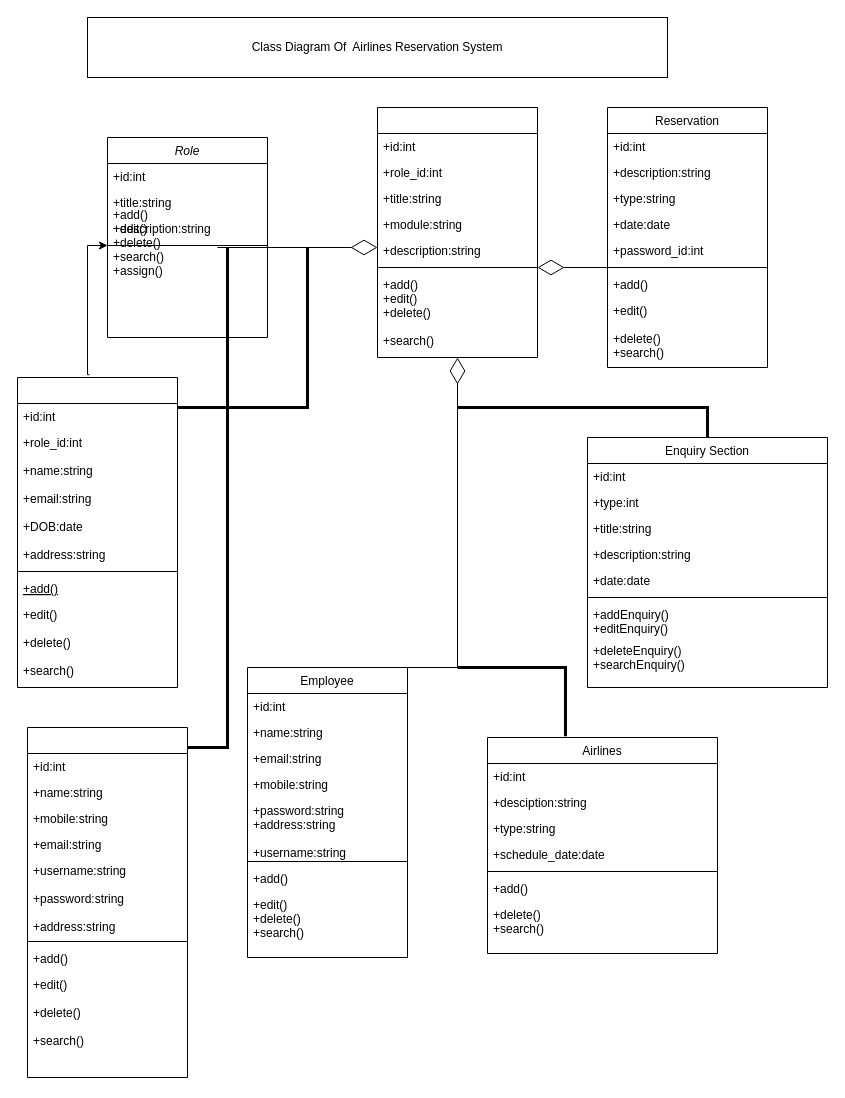
The diagram is 845 pixels wide and 1098 high, and some of its shapes have lost their labels. The shapes that lost their labels are listed below. From the top down, each one's box as (x1, y1, x2, y2) in pixels, then its label:
(376, 106, 538, 358): Permission
(16, 376, 178, 688): User
(26, 726, 188, 1078): Passenger
